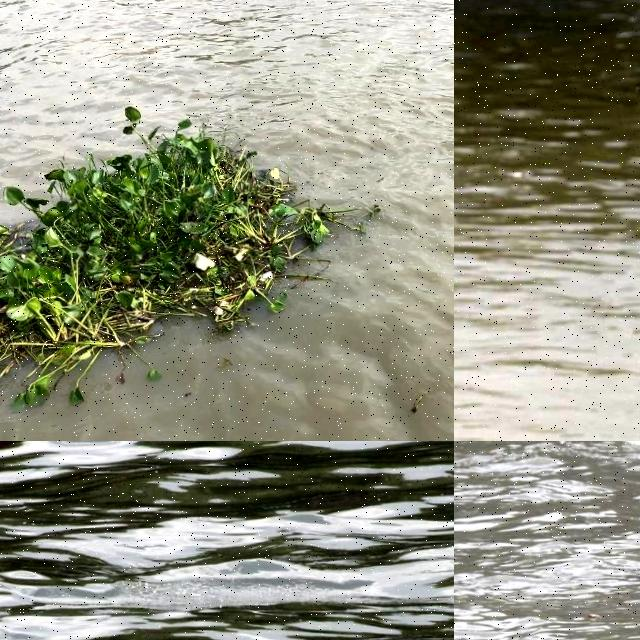water-hyacinth: (1, 100, 373, 412)
